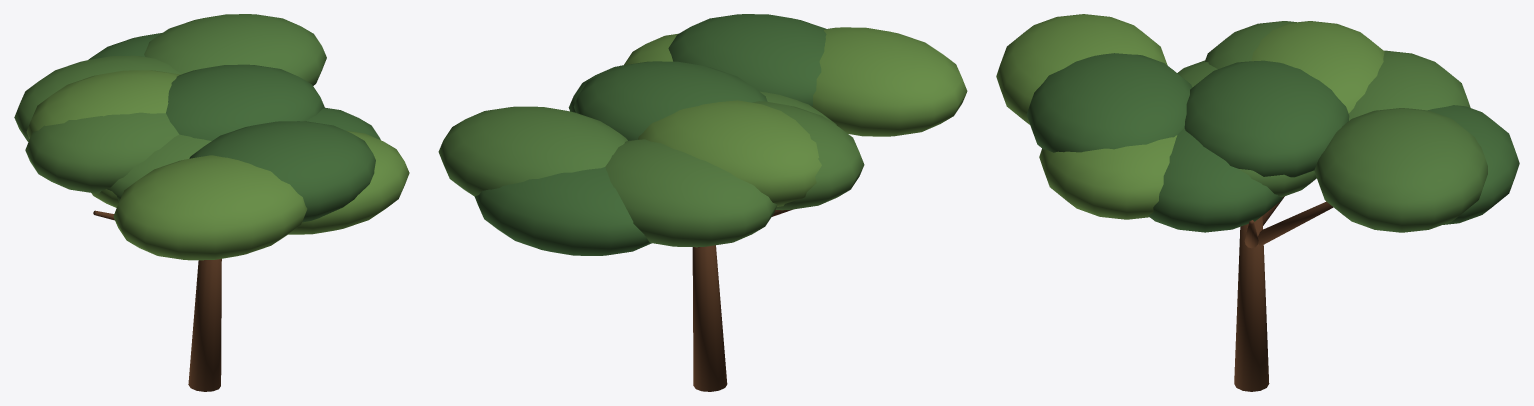
3 views of the same model, side by side, from view 1: azimuth 30°, elevation 25°; view 2: azimuth 150°, elevation 25°; view 3: azimuth 270°, elevation 25° (orthographic). The views are drawn at different scales.
Parts seen in each view (by area): view 1: Canopy cluster.008, Canopy cluster.003, Canopy cluster.009, Canopy cluster.010, Canopy cluster.004, Canopy cluster.002, Canopy cluster.011, Trunk, Canopy cluster.007, Canopy cluster, Canopy cluster.006, Canopy cluster.012; view 2: Canopy cluster.008, Canopy cluster.007, Canopy cluster.004, Canopy cluster.002, Canopy cluster.012, Canopy cluster.003, Canopy cluster.009, Trunk, Canopy cluster.010, Canopy cluster.011, Canopy cluster; view 3: Canopy cluster.004, Canopy cluster.009, Canopy cluster.003, Canopy cluster.006, Canopy cluster.008, Canopy cluster.011, Canopy cluster.002, Canopy cluster.007, Trunk, Canopy cluster.012, Canopy cluster.010, Canopy cluster.001 (+2 smaller).
Part boxes in pixels (box(x1,y1,x2,y2)): Canopy cluster.008: box(113, 155, 307, 260); Canopy cluster.003: box(189, 121, 375, 222); Canopy cluster.009: box(166, 64, 324, 140); Canopy cluster.010: box(25, 112, 179, 193); Canopy cluster.004: box(144, 14, 326, 85); Canopy cluster.002: box(26, 70, 180, 138); Canopy cluster.011: box(288, 130, 409, 234); Trunk: box(188, 258, 221, 391); Canopy cluster.007: box(14, 55, 181, 141); Canopy cluster: box(107, 134, 211, 201); Canopy cluster.006: box(306, 107, 380, 139); Canopy cluster.012: box(88, 33, 161, 59); Canopy cluster.008: box(812, 27, 967, 136); Canopy cluster.007: box(605, 139, 777, 247); Canopy cluster.004: box(438, 106, 627, 196); Canopy cluster.002: box(638, 100, 821, 206); Canopy cluster.012: box(474, 167, 651, 255); Canopy cluster.003: box(668, 14, 826, 106); Canopy cluster.009: box(573, 61, 767, 140); Trunk: box(692, 245, 727, 391); Canopy cluster.010: box(752, 101, 864, 210); Canopy cluster.011: box(624, 33, 678, 64); Canopy cluster: box(760, 91, 836, 125); Canopy cluster.004: box(1314, 108, 1487, 232); Canopy cluster.009: box(1184, 60, 1349, 177); Canopy cluster.003: box(1026, 53, 1192, 152); Canopy cluster.006: box(1148, 128, 1282, 232); Canopy cluster.008: box(996, 14, 1167, 124); Canopy cluster.011: box(1039, 135, 1177, 219); Canopy cluster.002: box(1251, 21, 1384, 113); Canopy cluster.007: box(1349, 50, 1470, 120); Trunk: box(1234, 216, 1269, 391); Canopy cluster.012: box(1428, 105, 1519, 224); Canopy cluster.010: box(1205, 21, 1296, 68); Canopy cluster.001: box(1239, 169, 1316, 197).
Bounding box in the file's own units: 4.87 × 4 × 5.98.
